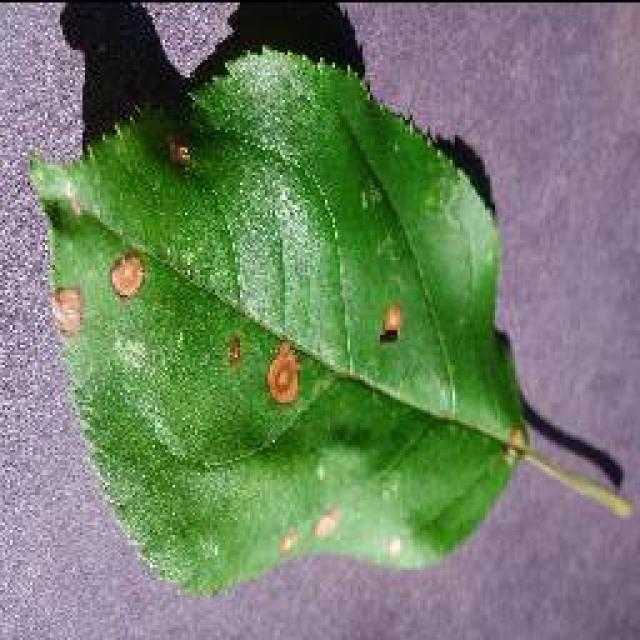Black_rot: (25, 40, 627, 598)
